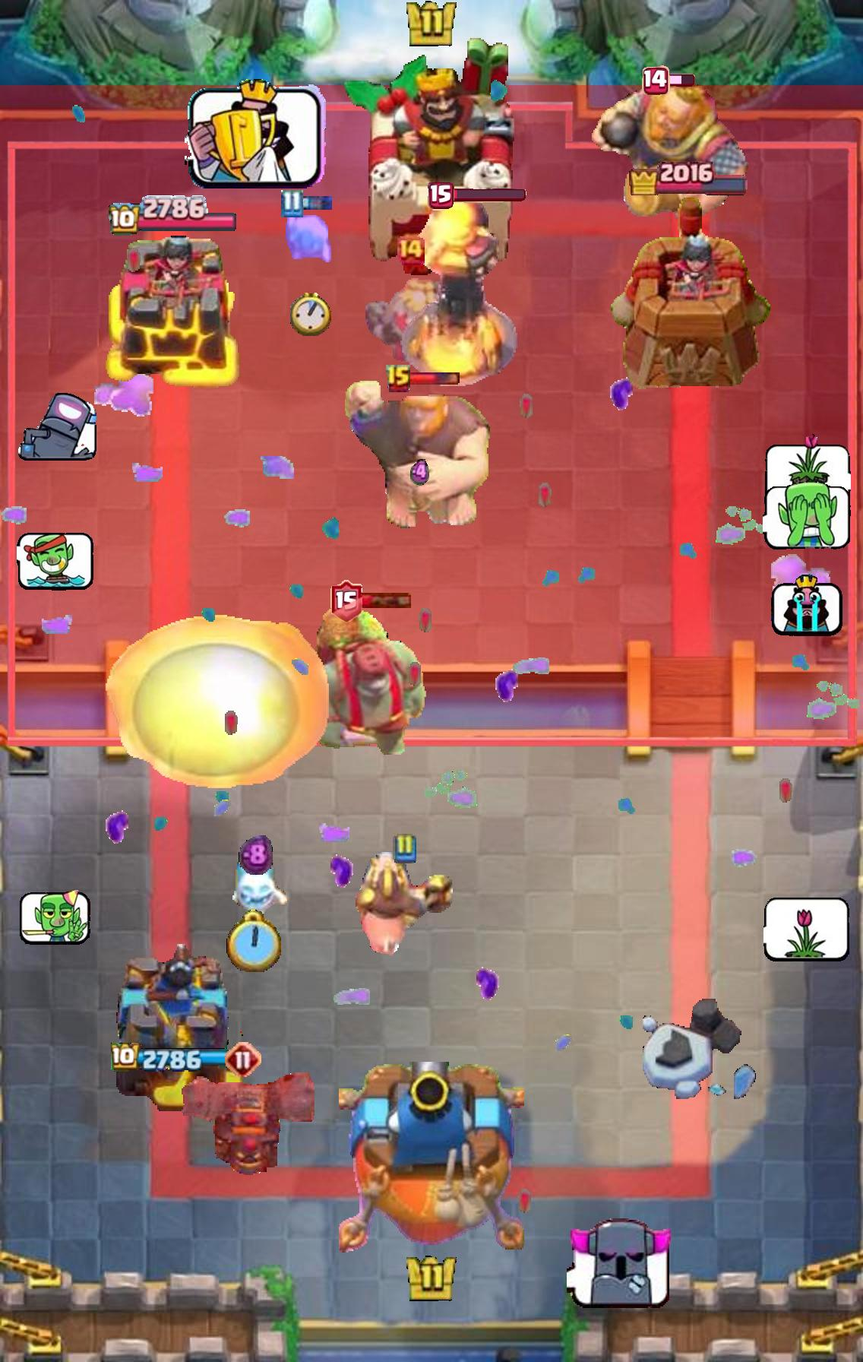elixir: (238, 834, 272, 876), (410, 458, 429, 487)
fireball: (97, 607, 337, 804)
hog-rider: (356, 850, 453, 962)
ice-spirit: (279, 210, 343, 268)
